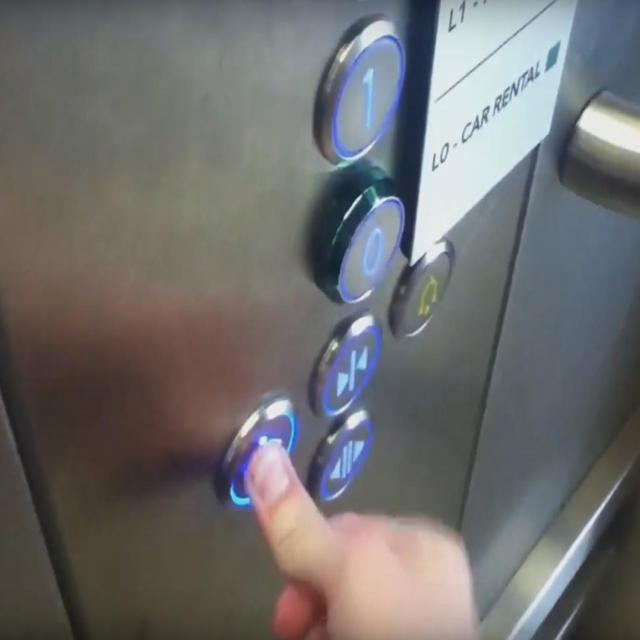0: (324, 169, 404, 302)
1: (310, 14, 405, 167)
alarm: (388, 234, 455, 340)
close: (307, 306, 384, 416)
open: (302, 407, 374, 506)
